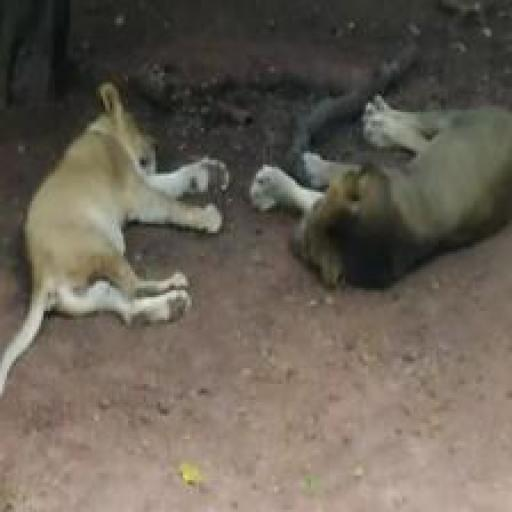Tiger: (0, 68, 233, 406)
